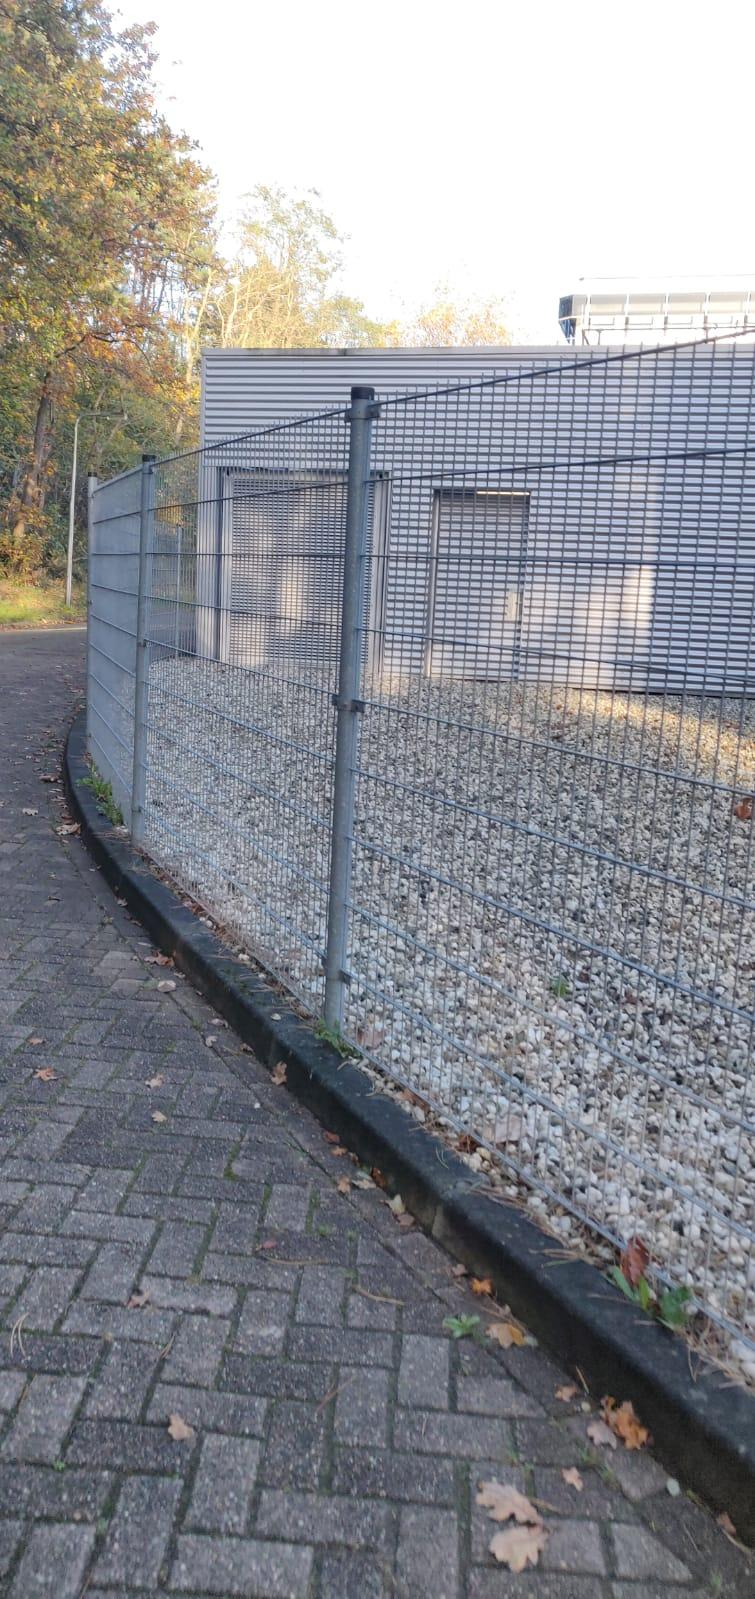obstacle: (0, 733, 690, 1224)
